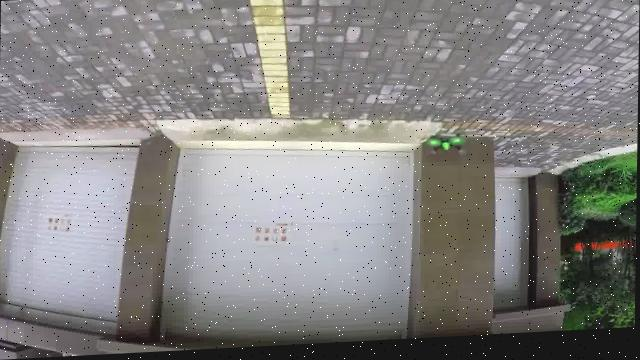drone: (418, 135, 470, 167)
